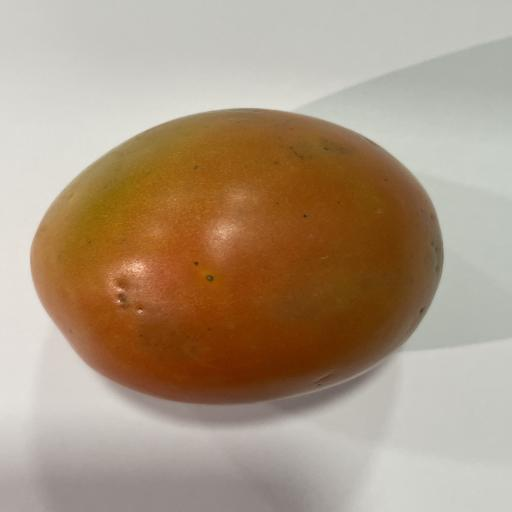unripe: (31, 109, 443, 404)
